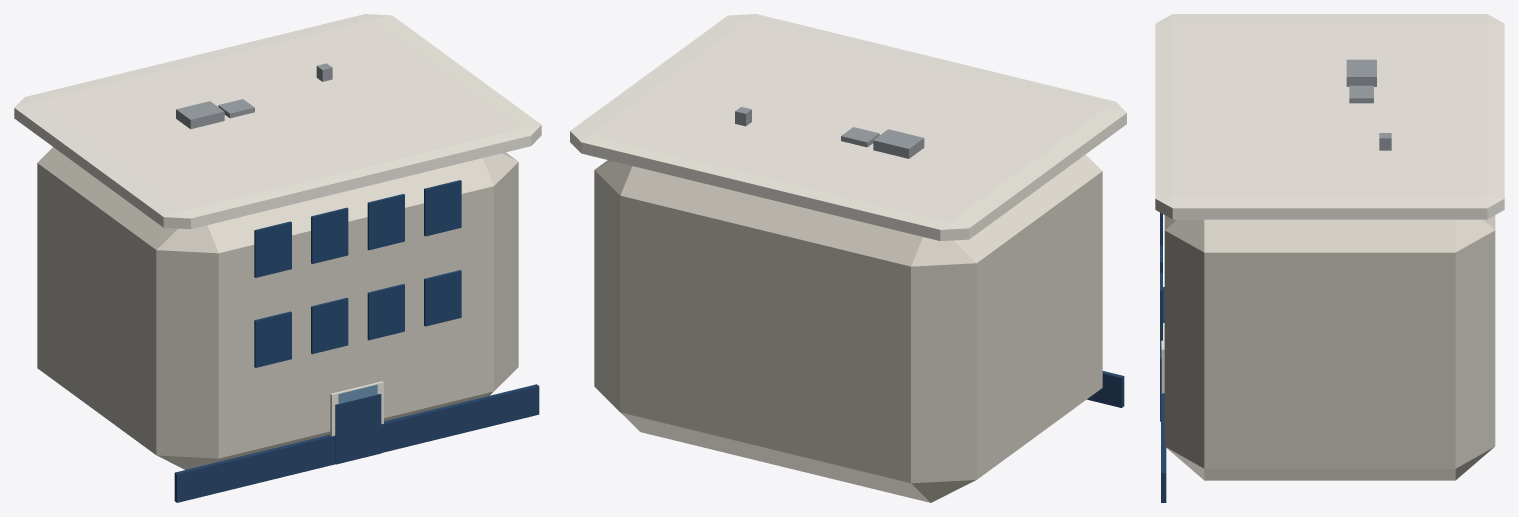
The model's file is police.glb.
3 views of the same model, side by side, from view 1: azimuth 30°, elevation 25°; view 2: azimuth 150°, elevation 25°; view 3: azimuth 270°, elevation 25° (orthographic). The views are drawn at different scales.
Parts seen in each view (by area): view 1: walls, cornice, band, door, win, win.004, win.003, win.007, win.002, win.005, win.001, win.006 (+2 smaller); view 2: walls, cornice, hvac, band; view 3: walls, cornice, hvac, band, hvac2.
Part boxes in pixels (x1,y1,x2,y2): walls: (37, 147, 518, 469); cornice: (14, 14, 541, 229); band: (174, 384, 539, 502); door: (335, 394, 381, 464); win: (254, 311, 291, 367); win.004: (254, 221, 291, 277); win.003: (424, 270, 461, 326); win.007: (424, 180, 461, 236); win.002: (367, 284, 404, 340); win.005: (311, 207, 348, 263); win.001: (311, 297, 348, 354); win.006: (367, 194, 404, 250); walls: (594, 154, 1102, 502); cornice: (570, 14, 1126, 240); hvac: (873, 129, 924, 158); band: (1087, 371, 1124, 407); walls: (1164, 215, 1495, 480); cornice: (1155, 14, 1504, 219); hvac: (1346, 59, 1376, 86); band: (1161, 287, 1166, 502); hvac2: (1349, 85, 1373, 103).
Size of the model in its own units: 16.7 by 12.5 by 12.7.
